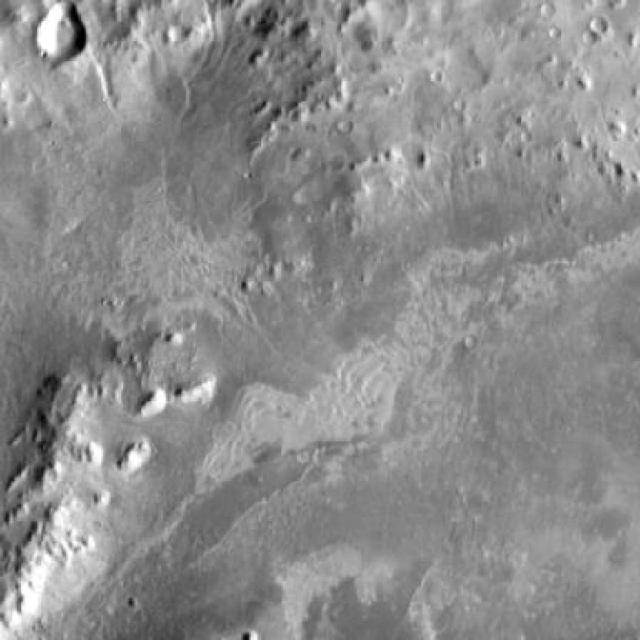crater: (34, 8, 84, 58), (165, 21, 188, 44)
